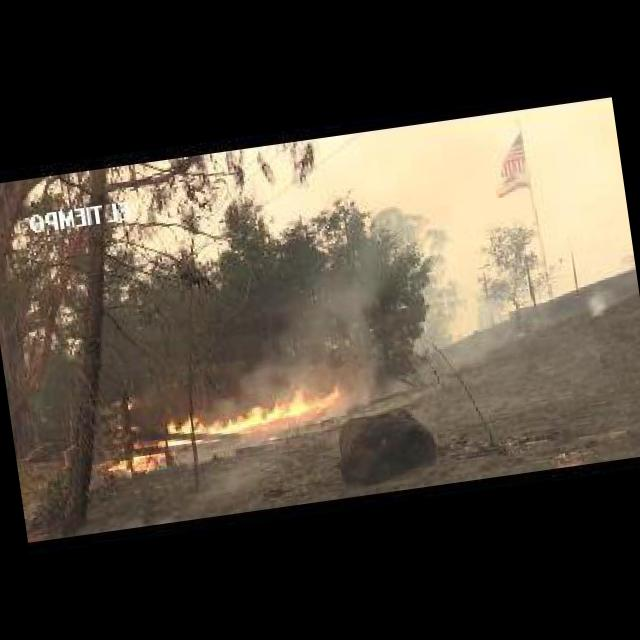Fire: (152, 378, 348, 443), (152, 383, 349, 445)
Smoke: (399, 187, 566, 376), (236, 248, 392, 394), (107, 450, 161, 477), (576, 284, 612, 322), (116, 418, 142, 447), (128, 398, 134, 409)
